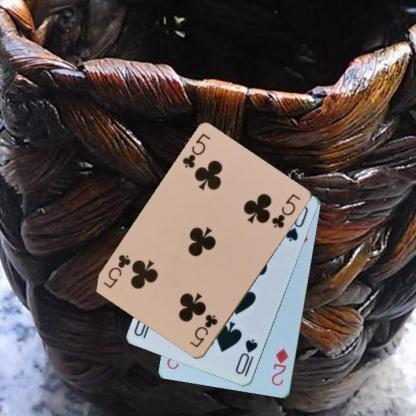10s: (232, 336, 260, 378)
2d: (268, 346, 290, 388)
5c: (186, 312, 219, 350), (180, 132, 212, 170)
